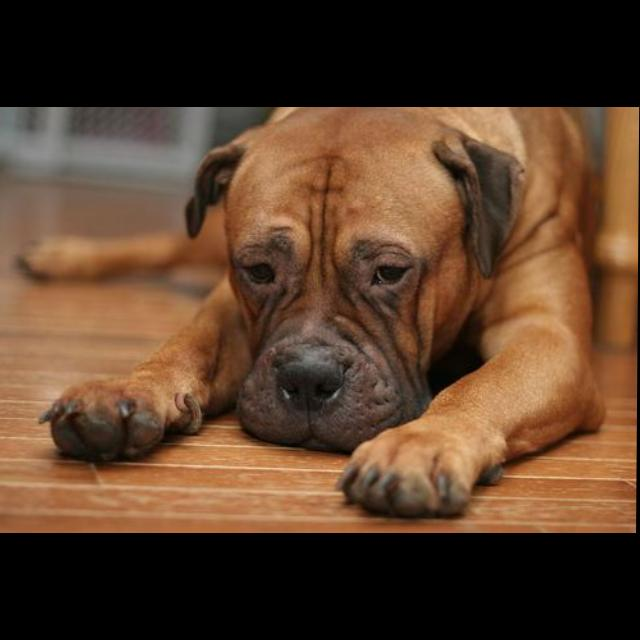bullmastiff: (18, 108, 612, 520)
